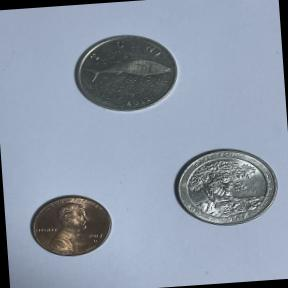Croatia-2Kune-B: (66, 26, 188, 120)
US-1cent-B: (23, 190, 118, 262)
US-25cent-B: (162, 140, 286, 232)
